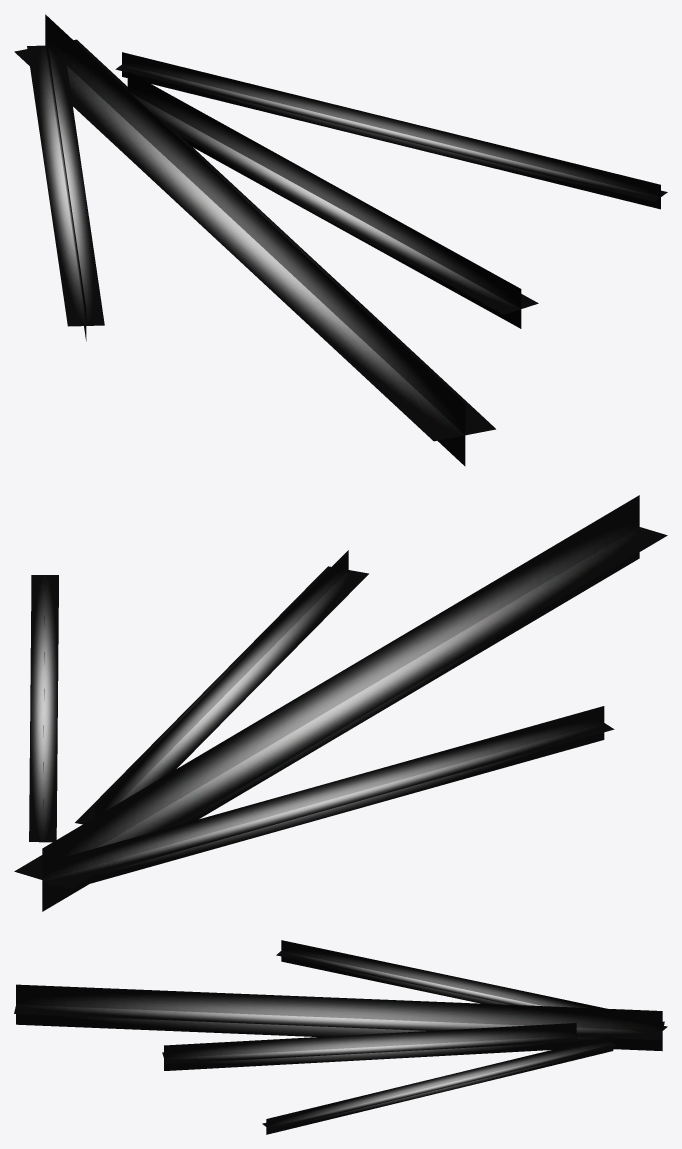
Rendered from vfx_kurp_0474.dae.
3 views of the same model, one above another, from view 1: azimuth 30°, elevation 25°; view 2: azimuth 150°, elevation 25°; view 3: azimuth 270°, elevation 25° (orthographic). The views are drawn at different scales.
Parts seen in each view (by area): view 1: vfx_kurp_0474; view 2: vfx_kurp_0474; view 3: vfx_kurp_0474.
Boxes of the visible parts, x1=… form: vfx_kurp_0474: x1=14, y1=14, x2=667, y2=466; vfx_kurp_0474: x1=14, y1=495, x2=667, y2=911; vfx_kurp_0474: x1=14, y1=940, x2=667, y2=1134.
Bounding box in the file's own units: 15.57 × 23.41 × 1.58.
Materials: 1 (1 with a texture image).
